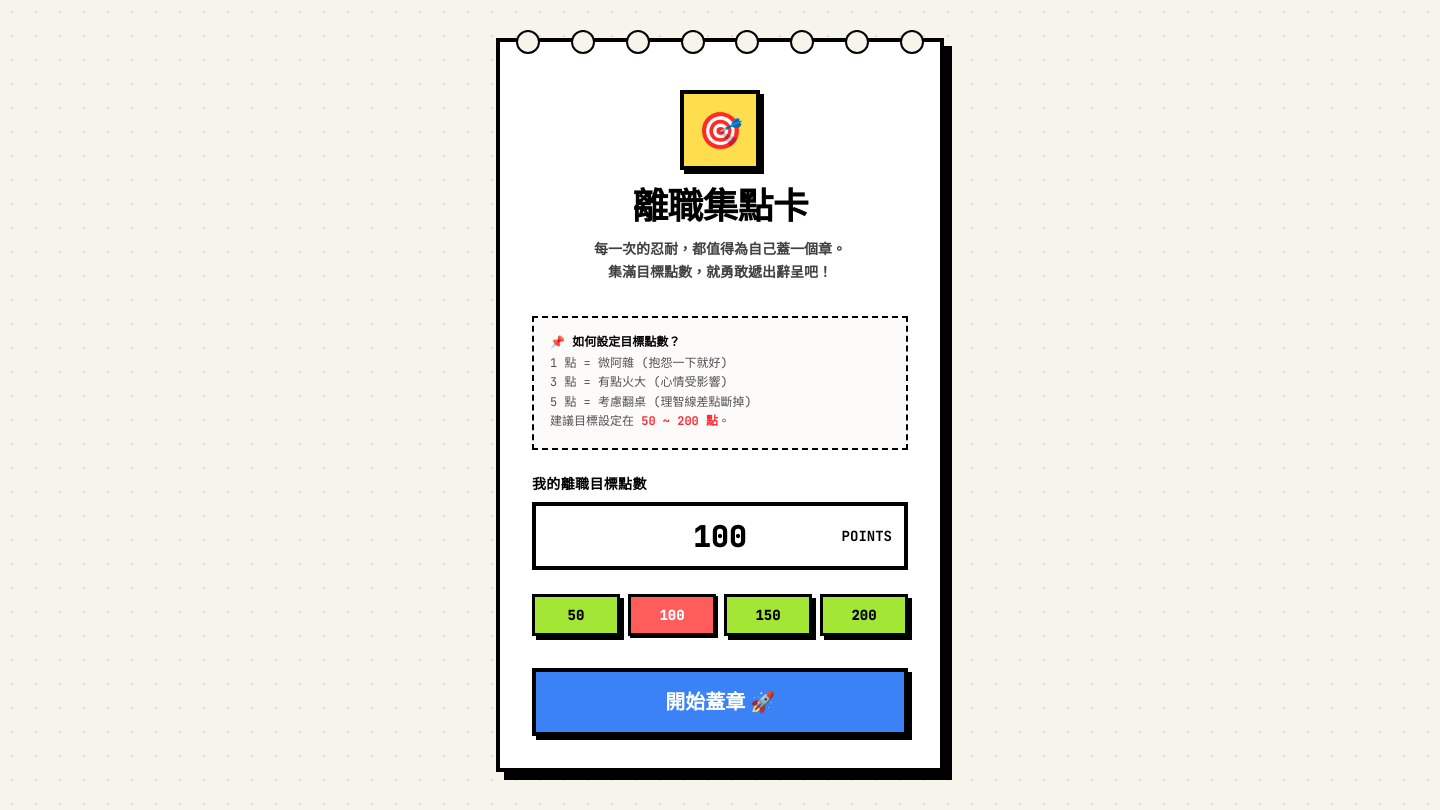
Scenario: OnboardingScreen.vue › shows error when input is invalid
This screenshot has width=1440, height=810.
// Set to negative number
Step 1. Type "-10" into the number field → (720, 536), box [532,502,908,570]
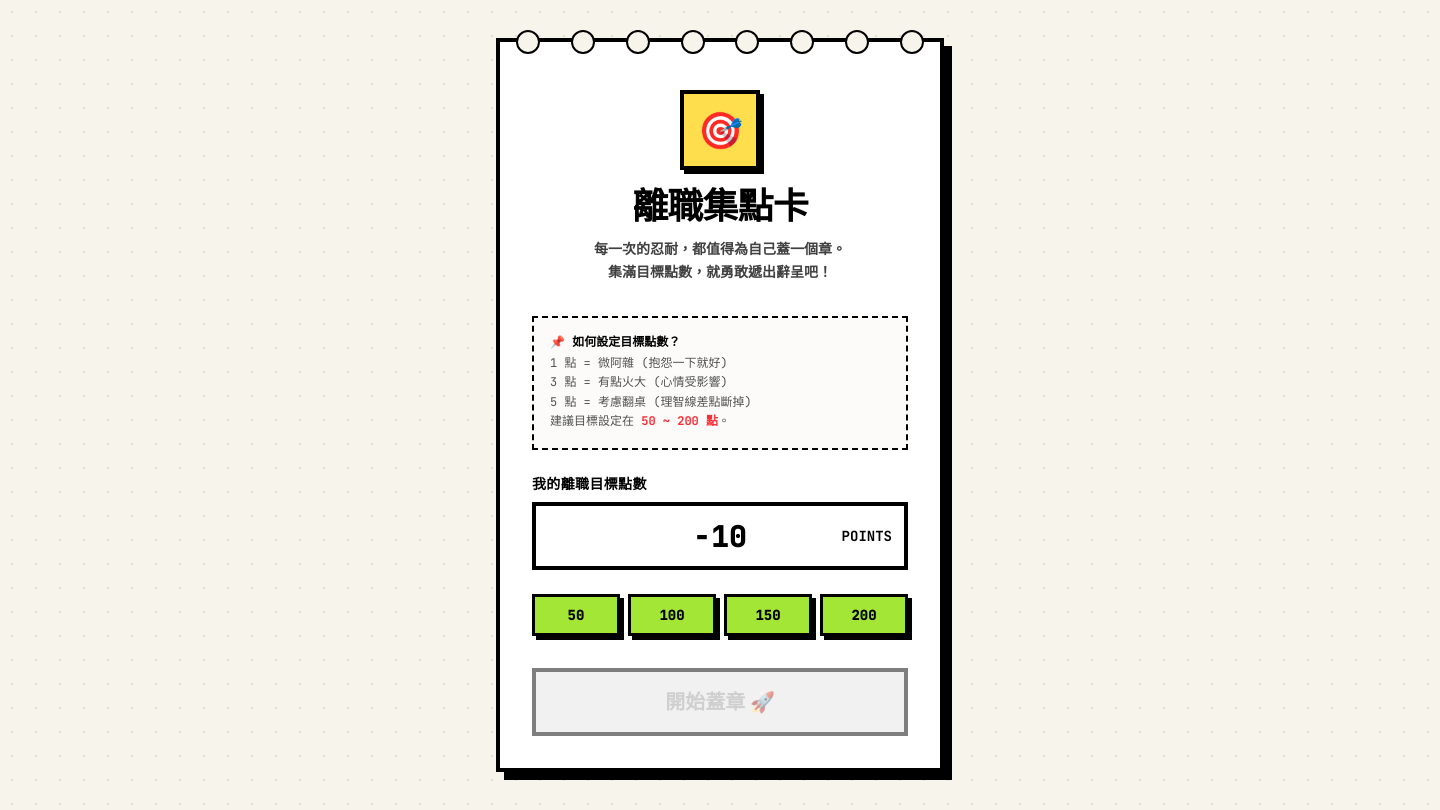
Now the button with id "onboarding-submit-btn" is disabled, box [532,668,908,736]
Step 2. Press Enter in the number field, box [532,502,908,570]
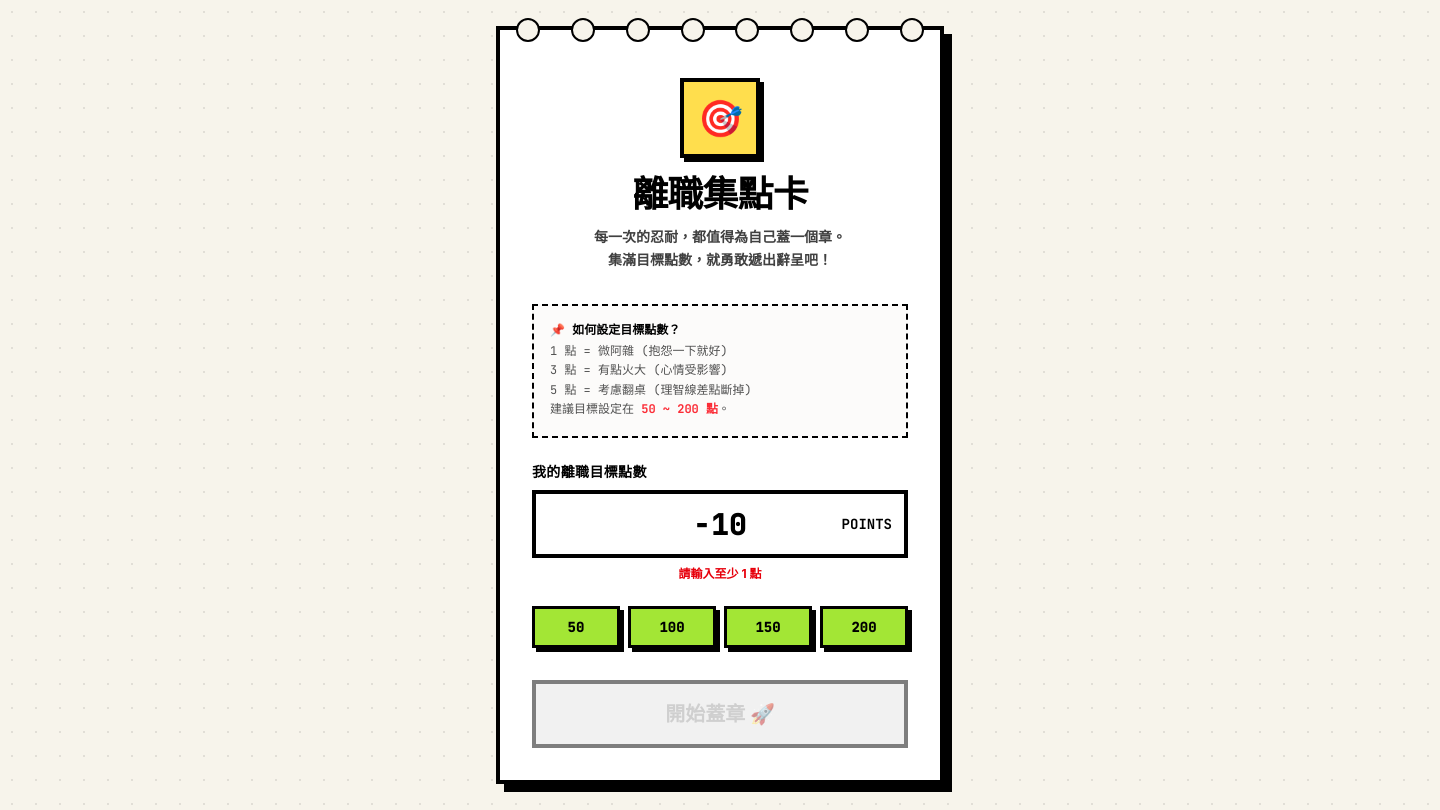
Now the text "請輸入至少 1 點" is shown, box [679,566,762,581]
